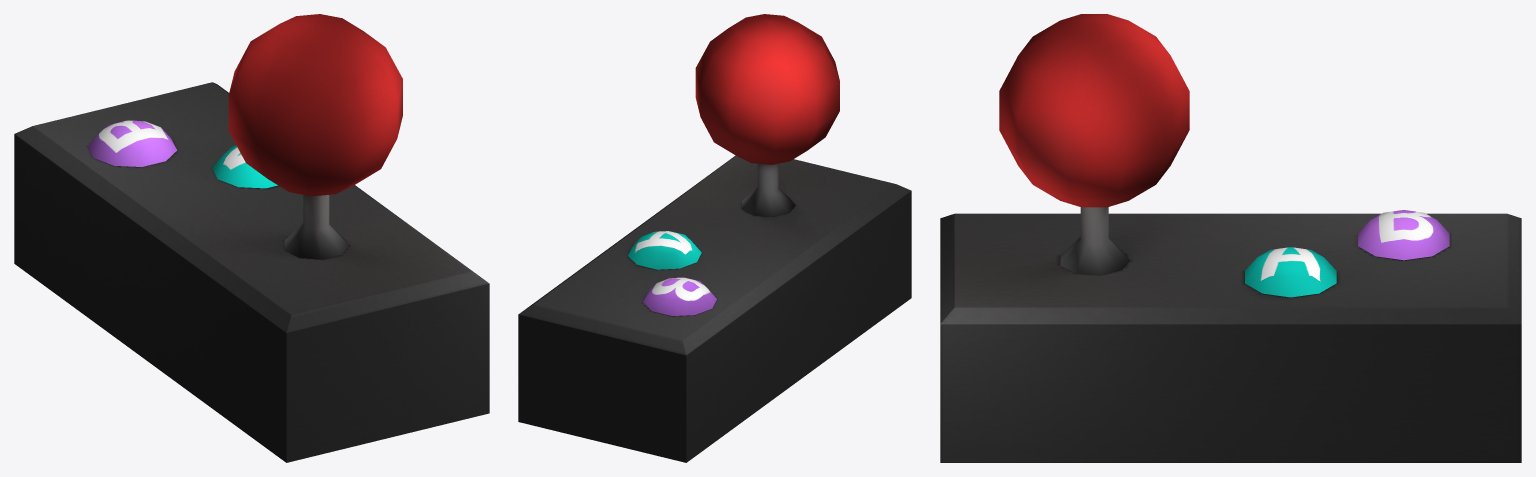
Rendered from Emoji_joystick.glb.
3 renders of one model, left to right at view 1: azimuth 30°, elevation 25°; view 2: azimuth 150°, elevation 25°; view 3: azimuth 270°, elevation 25°, orthographic. The views are drawn at different scales.
Visible parts, largest first — view 1: Emoji; view 2: Emoji; view 3: Emoji.
Boxes of the visible parts, x1,y1,x2,y2 form: Emoji: (14, 14, 489, 462); Emoji: (518, 14, 911, 462); Emoji: (940, 14, 1521, 462).
Bounding box in the file's own units: 0.2789 × 0.4764 × 0.6472.
1 material, 1 textured.
